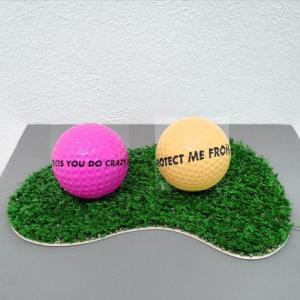TennisBall: (51, 124, 131, 202), (156, 118, 231, 192)
